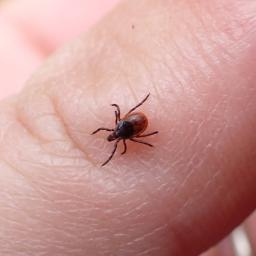Ixodes scapularis: (91, 92, 159, 166)
